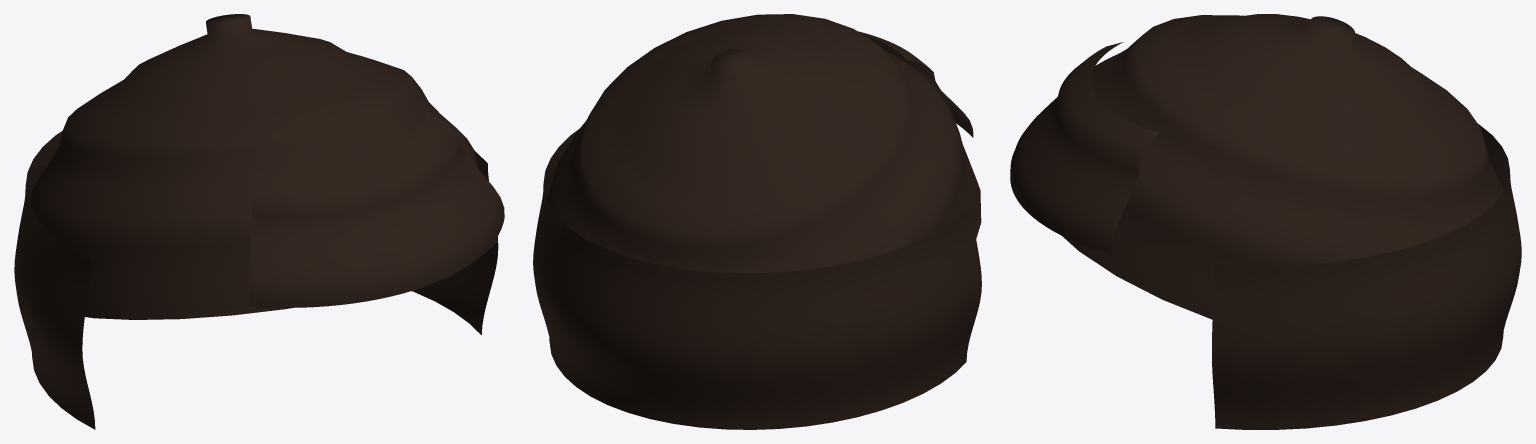
Rendered from hair_short_female.glb.
3 renders of one model, left to right at view 1: azimuth 30°, elevation 25°; view 2: azimuth 150°, elevation 25°; view 3: azimuth 270°, elevation 25°, orthographic. The views are drawn at different scales.
Parts seen in each view (by area): view 1: hair, bang, hair_back; view 2: hair, hair_back, bang; view 3: hair, hair_back, bang.
Boxes of the visible parts, x1,y1,x2,y2 form: hair: [29, 14, 496, 319]; bang: [249, 112, 504, 307]; hair_back: [14, 131, 498, 429]; hair: [546, 14, 981, 273]; hair_back: [533, 129, 981, 429]; bang: [858, 31, 973, 137]; hair: [1062, 14, 1503, 319]; hair_back: [1212, 124, 1521, 429]; bang: [1010, 42, 1159, 254].
Size of the model in its own units: 0.3094 by 0.2276 by 0.3342.
